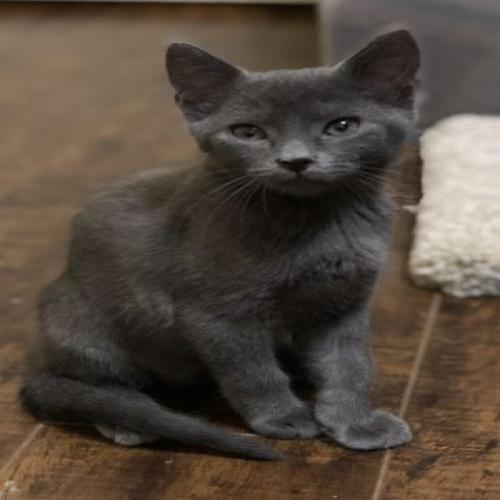rblue: (158, 26, 433, 205)
